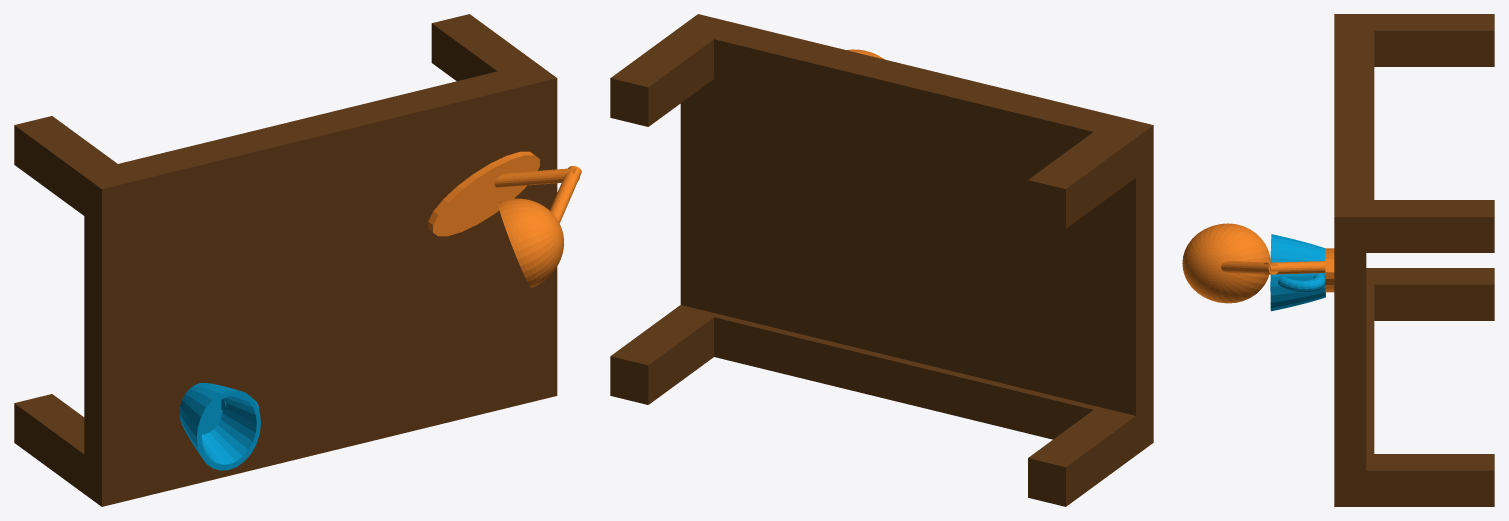
The model's file is tinker.obj.
3 views of the same model, side by side, from view 1: azimuth 30°, elevation 25°; view 2: azimuth 150°, elevation 25°; view 3: azimuth 270°, elevation 25° (orthographic). The views are drawn at different scales.
Visible parts, largest first — view 1: group_0_6306067, group_0_16089887, group_0_40919; view 2: group_0_6306067; view 3: group_0_6306067, group_0_16089887, group_0_40919.
Boxes of the visible parts, left/top/right/bottom form: group_0_6306067: left=14, top=14, right=557, bottom=506; group_0_16089887: left=428, top=151, right=581, bottom=287; group_0_40919: left=179, top=383, right=260, bottom=470; group_0_6306067: left=610, top=14, right=1153, bottom=506; group_0_6306067: left=1334, top=14, right=1494, bottom=506; group_0_16089887: left=1182, top=223, right=1334, bottom=303; group_0_40919: left=1270, top=234, right=1325, bottom=311.
Bounding box in the file's own units: 60 × 40 × 39.
